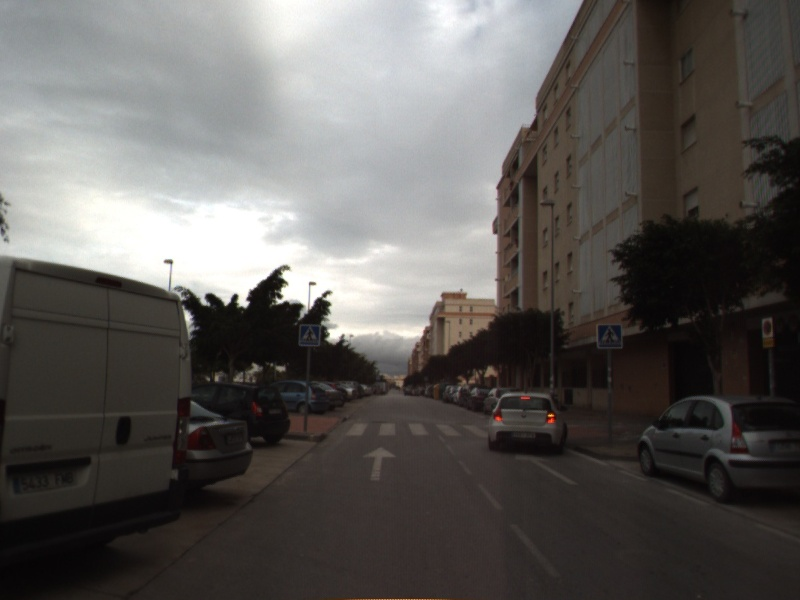STRAIGHT: (513, 452, 581, 487), (361, 445, 398, 483)
